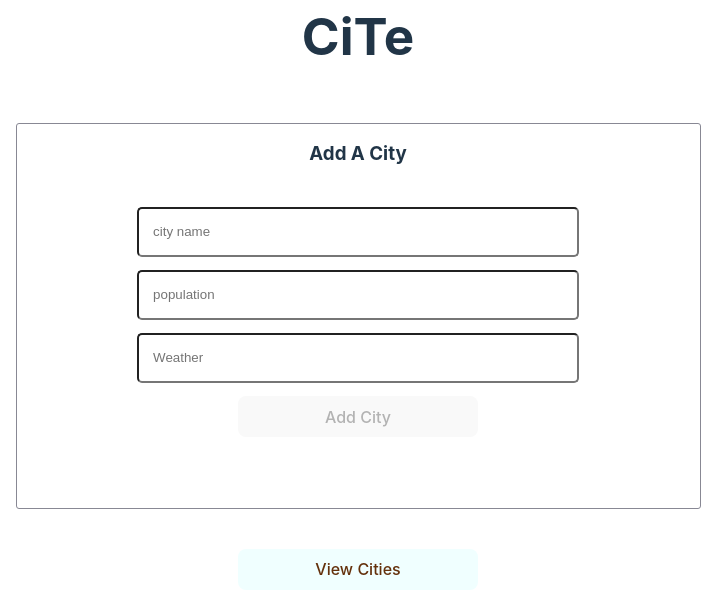
Test case: city › user can register a city
Type "Nyabihu" into the field with class "cityname" at {"x": 358, "y": 232}, box [137,207,578,256]
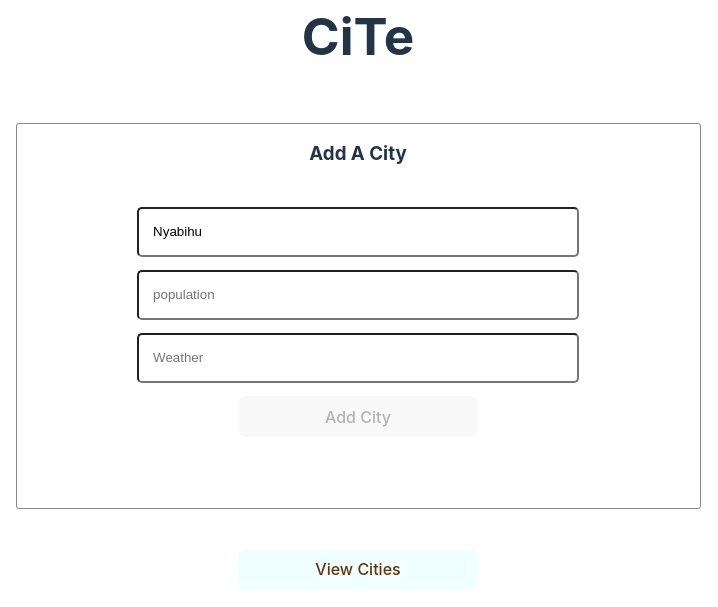
Type "10000" into the number field with placeholder "population" at {"x": 358, "y": 295}, box [137,270,578,319]
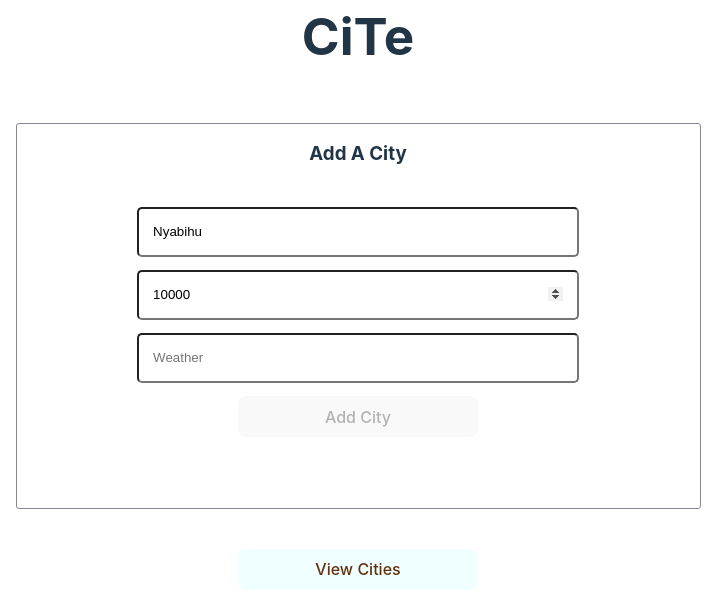
Type "20" into the number field with class "weather" at {"x": 358, "y": 358}, box [137,333,578,382]
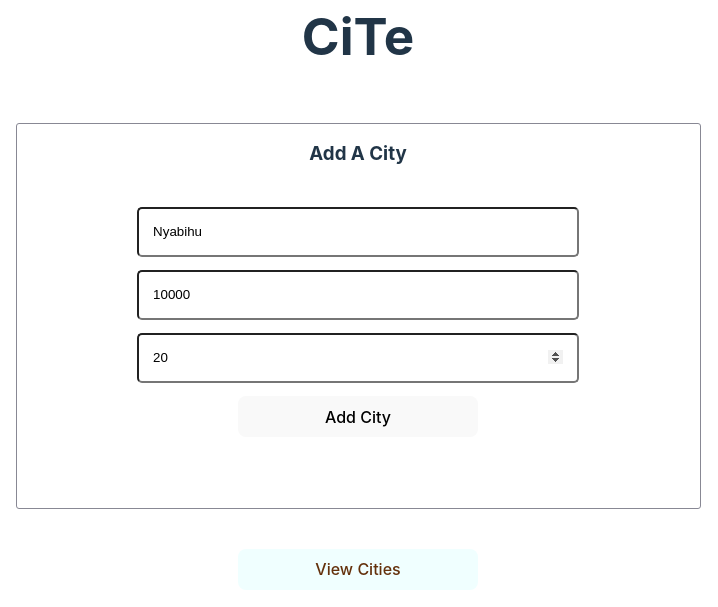
Click the submit button at {"x": 358, "y": 417}, box [238,396,478,437]
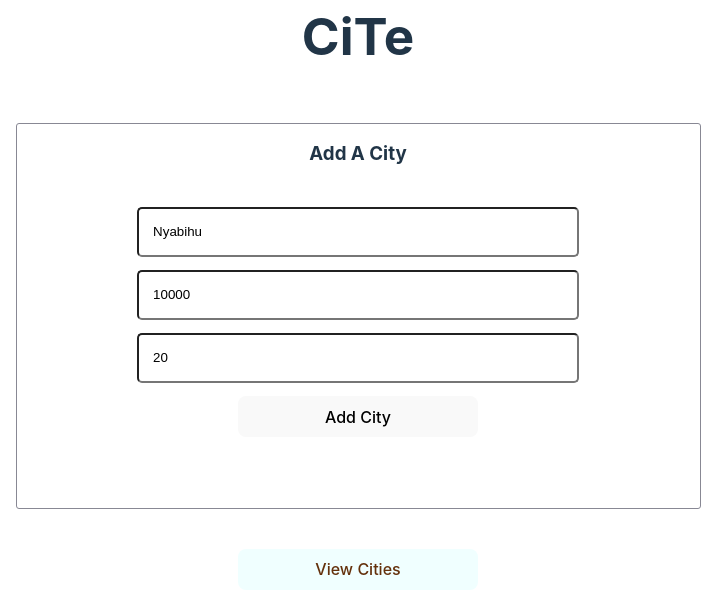
check if the city is added
Click the button "View Cities" at {"x": 358, "y": 570}, box [238,549,478,590]
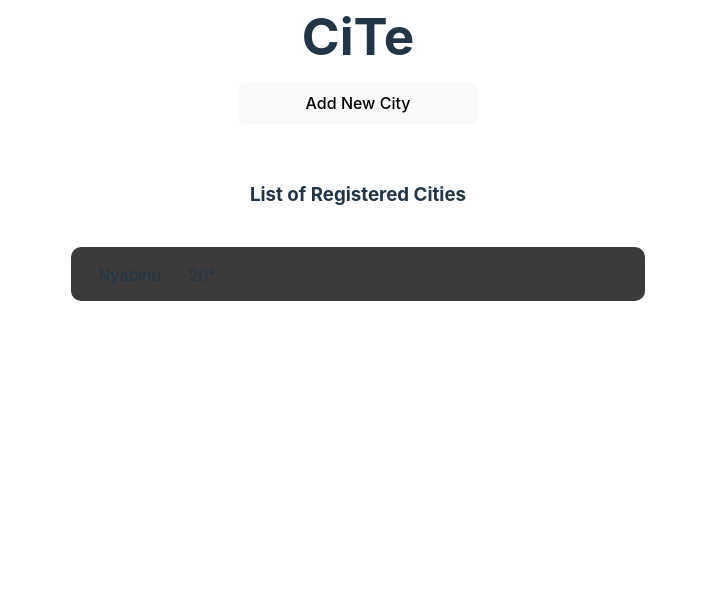
Expected: the text with class "onecity" reads "Nyabihu", [98,265,161,285]
